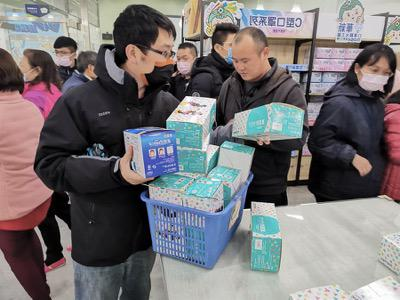with_mask: (139, 44, 175, 93), (357, 64, 392, 93), (175, 52, 192, 77), (52, 48, 72, 66)
without_mask: (231, 55, 262, 82)
